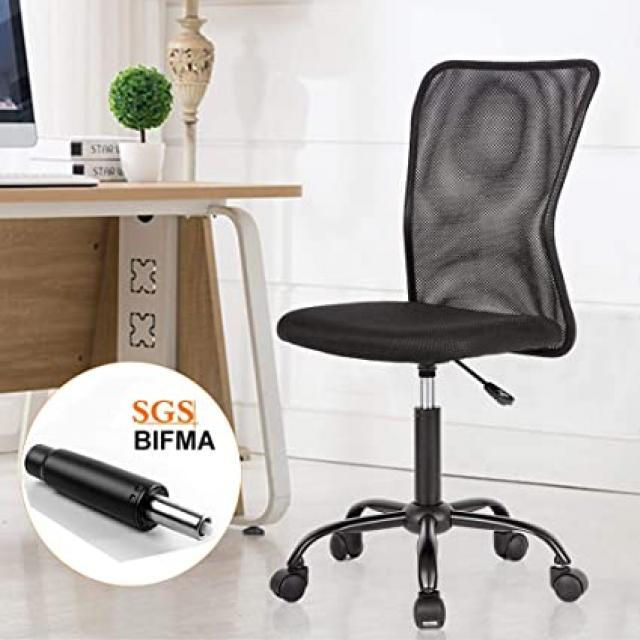chair: (258, 38, 614, 630)
